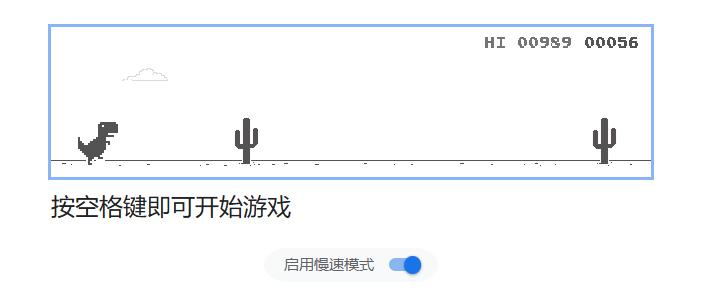cactus: (234, 117, 260, 166), (591, 117, 617, 166)
dino: (73, 119, 120, 165)
